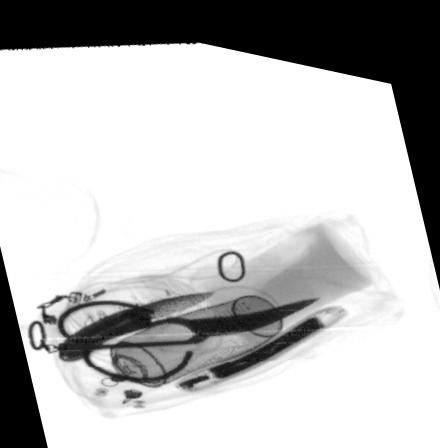Knife: (55, 281, 219, 357)
Powerbank: (168, 286, 350, 391)
Scissors: (54, 281, 327, 378)
Sprayer: (91, 281, 284, 387)
